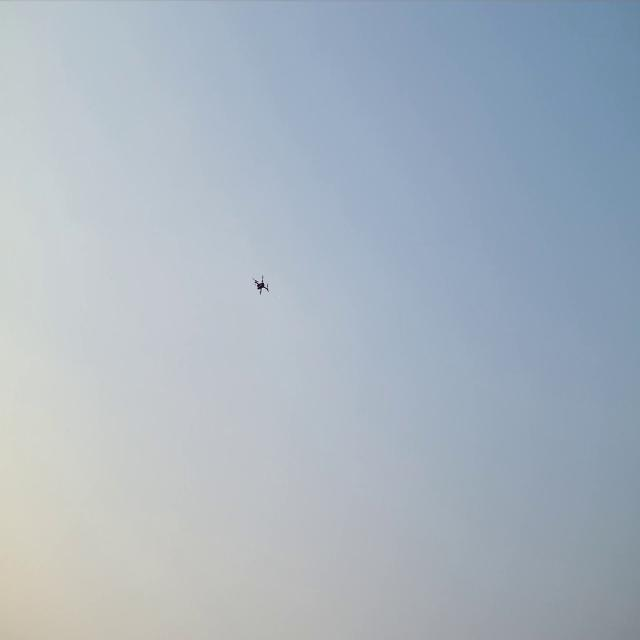UAV: (251, 272, 270, 298)
